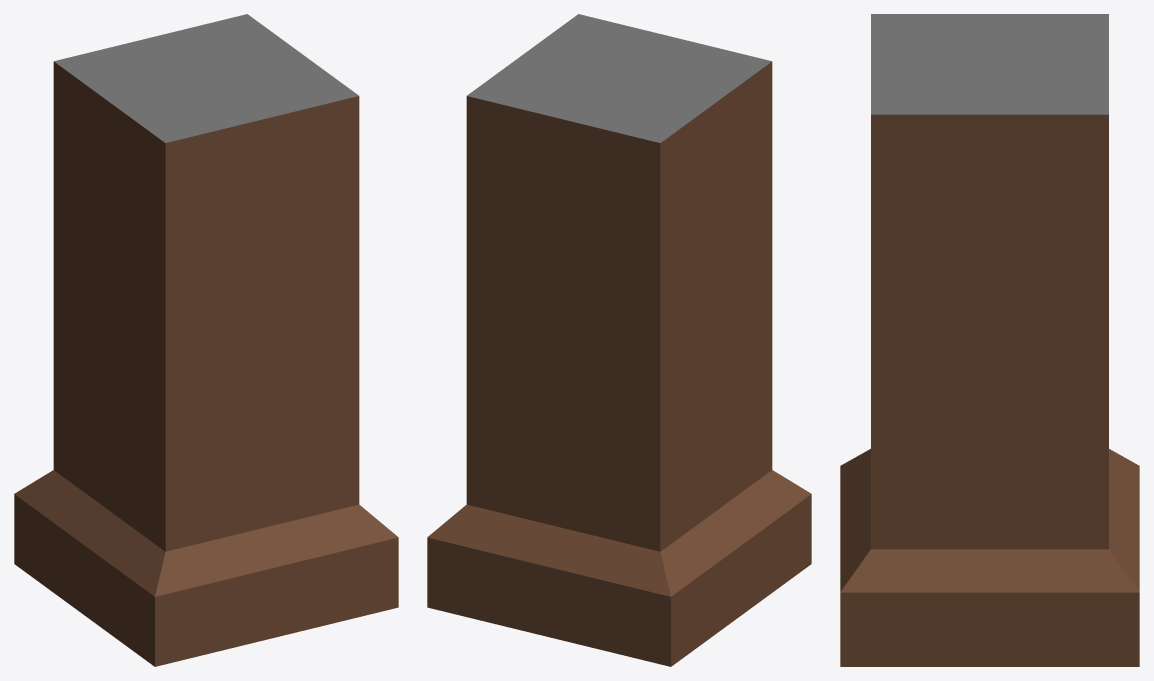
File: Wall_Stone_FourSided.fbx
3 views of the same model, side by side, from view 1: azimuth 30°, elevation 25°; view 2: azimuth 150°, elevation 25°; view 3: azimuth 270°, elevation 25° (orthographic). The views are drawn at different scales.
Parts seen in each view (by area): view 1: pPlane29; view 2: pPlane29; view 3: pPlane29.
Boxes of the visible parts, x1=… form: pPlane29: x1=14, y1=14, x2=398, y2=666; pPlane29: x1=427, y1=14, x2=811, y2=666; pPlane29: x1=840, y1=14, x2=1139, y2=666.
Bounding box in the file's own units: 126 × 250 × 126.
1 material, 1 textured.
